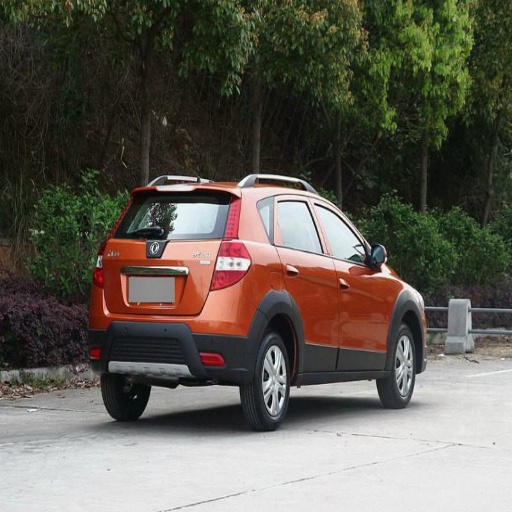back_bumper: (88, 282, 259, 379)
back_right_door: (274, 193, 339, 370)
trunk: (99, 240, 218, 322)
